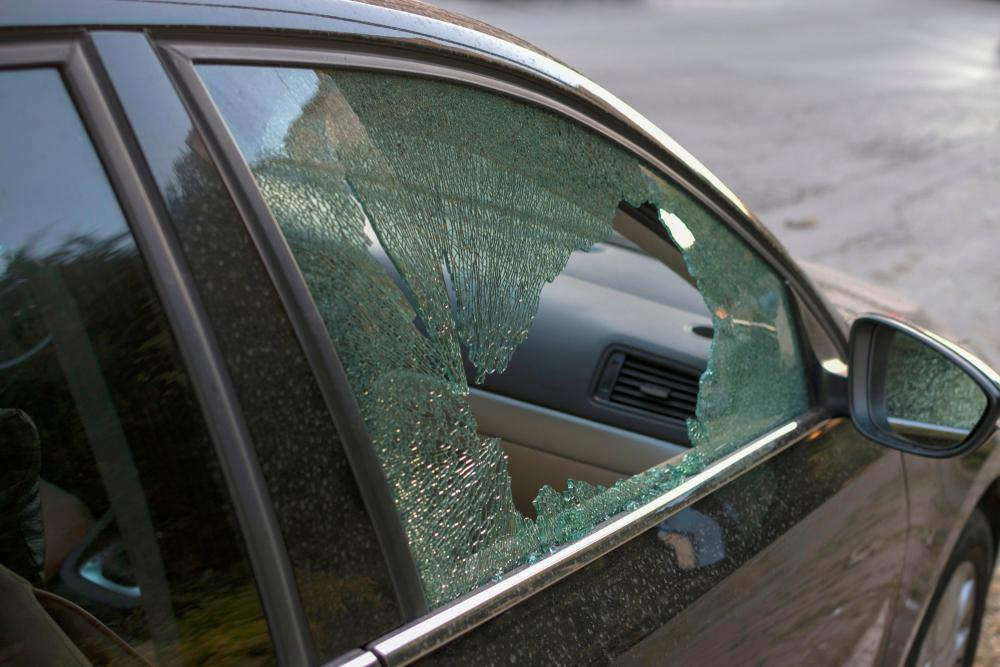glass shatter: (194, 63, 811, 611)
